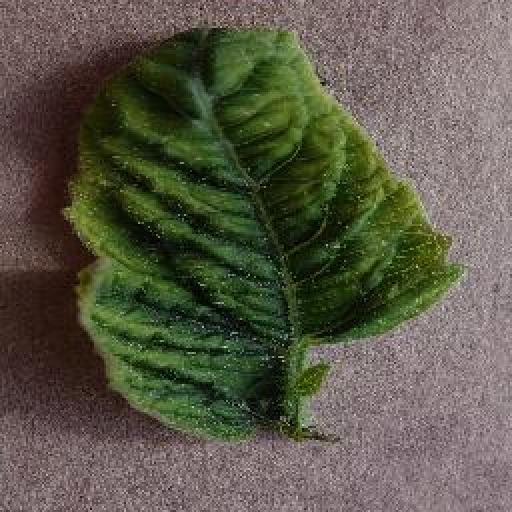disease_tomato: (64, 24, 466, 444)
